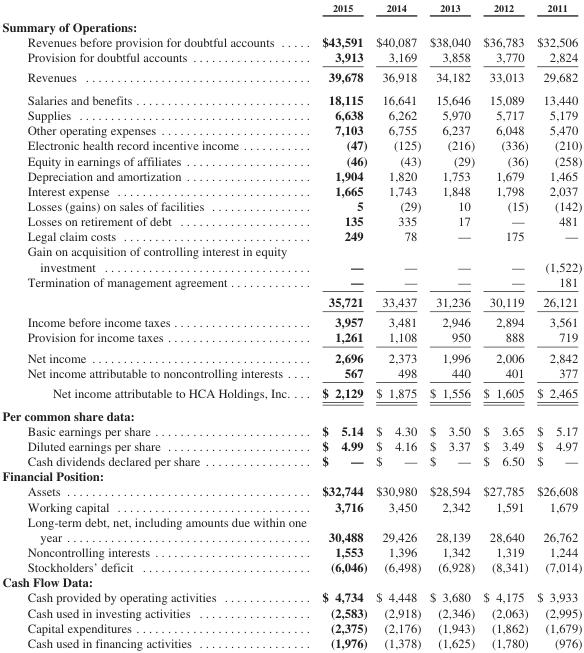table: (1, 1, 581, 649)
table column: (1, 1, 313, 649), (313, 1, 370, 649), (370, 1, 424, 649), (424, 1, 478, 649), (478, 1, 531, 649), (531, 1, 581, 649)
table column header: (1, 1, 581, 15)
table projected row header: (1, 403, 581, 422), (1, 15, 581, 33), (1, 468, 581, 483), (1, 574, 581, 589)
table row: (1, 243, 581, 273), (1, 513, 581, 543), (1, 66, 581, 88), (1, 382, 581, 403), (1, 291, 581, 311), (1, 88, 581, 107), (1, 403, 581, 422), (1, 15, 581, 33), (1, 48, 581, 66), (1, 273, 581, 291), (1, 311, 581, 329), (1, 346, 581, 364), (1, 364, 581, 382), (1, 329, 581, 346), (1, 197, 581, 213), (1, 437, 581, 453), (1, 543, 581, 559), (1, 33, 581, 48), (1, 107, 581, 122), (1, 122, 581, 137), (1, 137, 581, 152), (1, 152, 581, 167), (1, 167, 581, 182), (1, 182, 581, 197), (1, 213, 581, 228), (1, 228, 581, 243), (1, 422, 581, 437), (1, 453, 581, 468), (1, 468, 581, 483), (1, 483, 581, 498), (1, 498, 581, 513), (1, 559, 581, 574), (1, 574, 581, 589), (1, 589, 581, 604), (1, 604, 581, 619), (1, 619, 581, 634), (1, 634, 581, 649), (1, 1, 581, 15)
